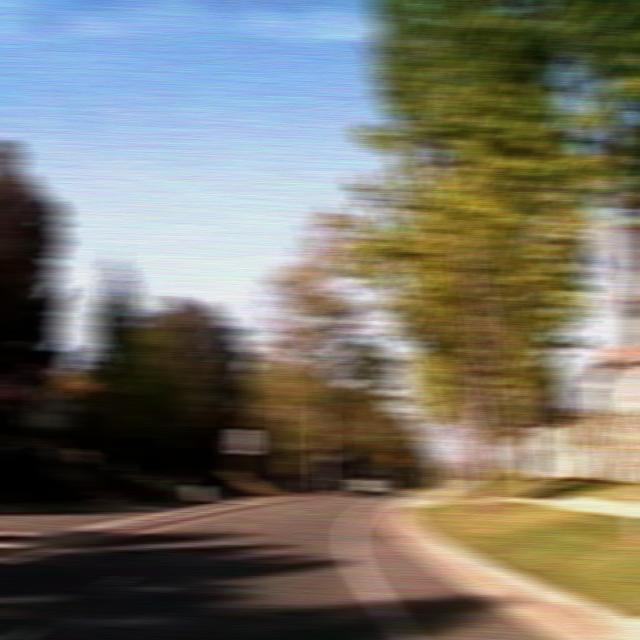speedLimit40: (230, 428, 256, 453)
